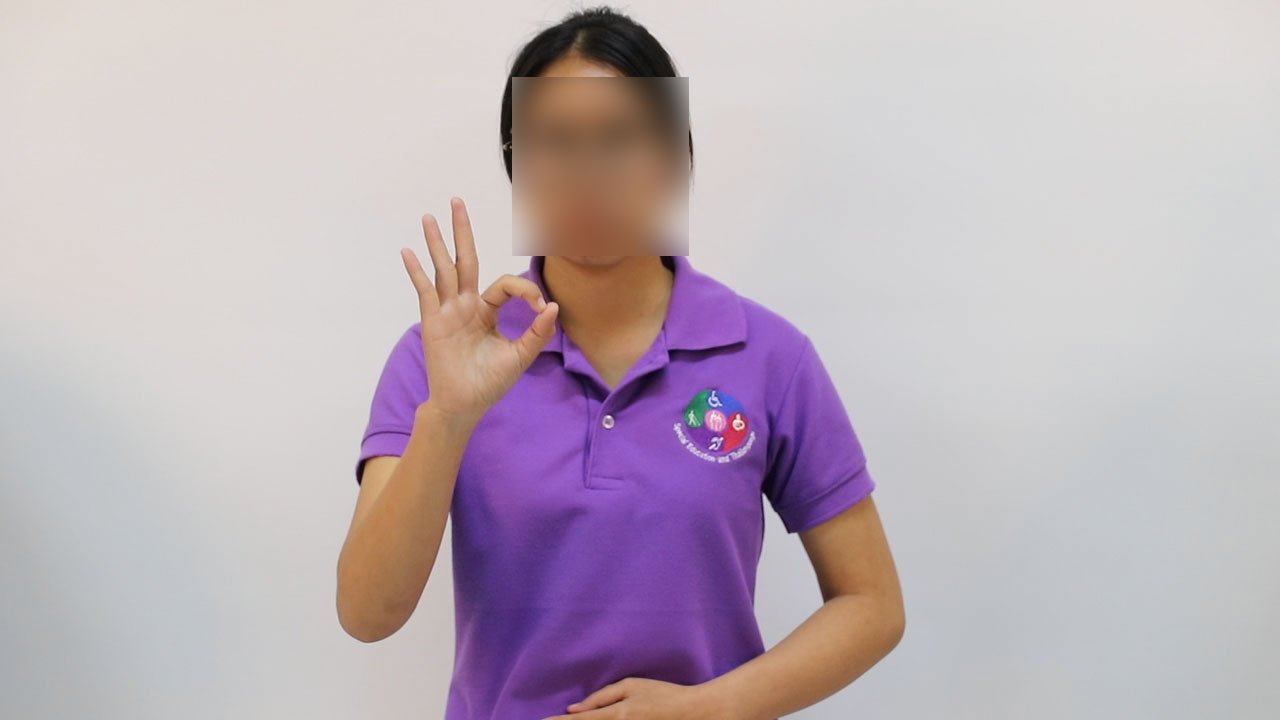for: (396, 188, 565, 427)
